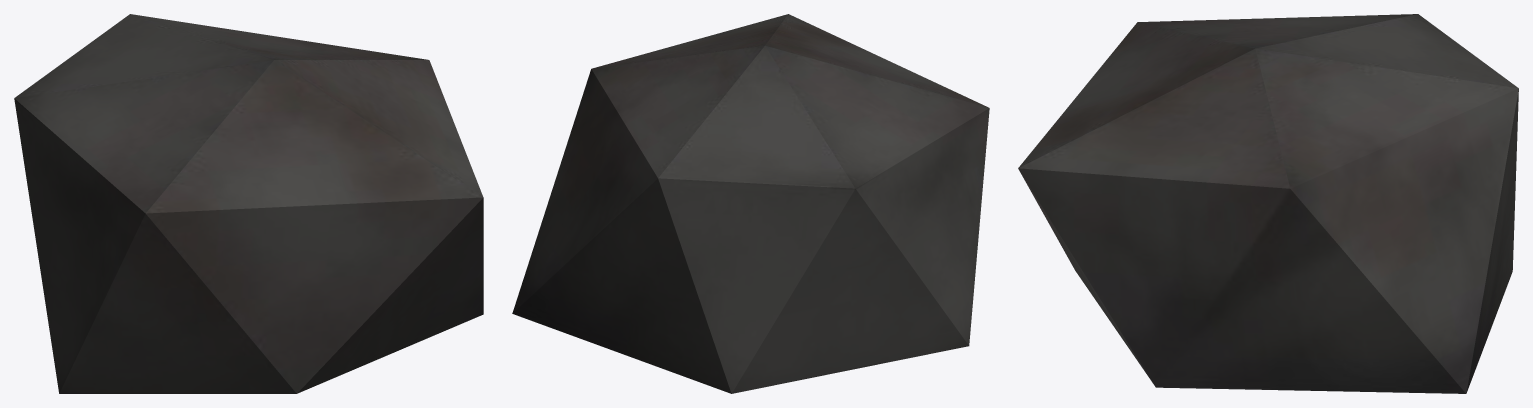
File: Hackaton_Stone.fbx
3 renders of one model, left to right at view 1: azimuth 30°, elevation 25°; view 2: azimuth 150°, elevation 25°; view 3: azimuth 270°, elevation 25°, orthographic. The views are drawn at different scales.
Parts seen in each view (by area): view 1: Big_Stone13; view 2: Big_Stone13; view 3: Big_Stone13.
Boxes of the visible parts, x1,y1,x2,y2 form: Big_Stone13: [14, 14, 483, 393]; Big_Stone13: [512, 14, 989, 393]; Big_Stone13: [1018, 14, 1518, 393].
Bounding box in the file's own units: 129 × 90.29 × 142.
